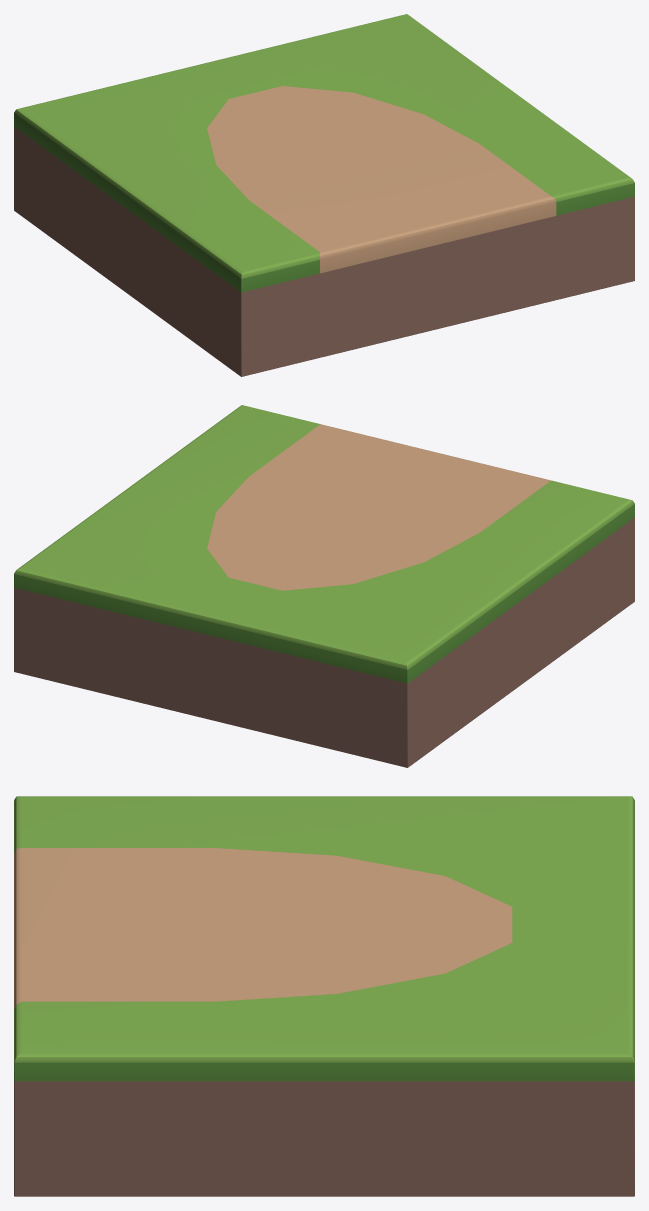
File: dirt_path_to_grass_tile_01.glb
The picture shows the model from 3 angles, top to bottom: view 1: azimuth 30°, elevation 25°; view 2: azimuth 150°, elevation 25°; view 3: azimuth 270°, elevation 25°; orthographic projection. The views are drawn at different scales.
Visible parts, largest first — view 1: dirt_path_to_grass_tile_01; view 2: dirt_path_to_grass_tile_01; view 3: dirt_path_to_grass_tile_01.
Boxes of the visible parts, x1=… form: dirt_path_to_grass_tile_01: x1=14, y1=14, x2=634, y2=376; dirt_path_to_grass_tile_01: x1=14, y1=405, x2=634, y2=767; dirt_path_to_grass_tile_01: x1=14, y1=796, x2=634, y2=1196.
Bounding box in the file's own units: 1 × 0.25 × 1.
